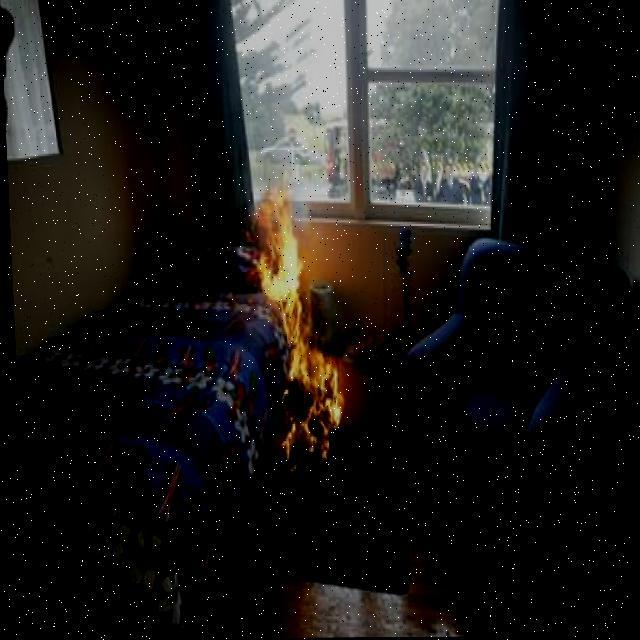Fire: (248, 186, 344, 462)
